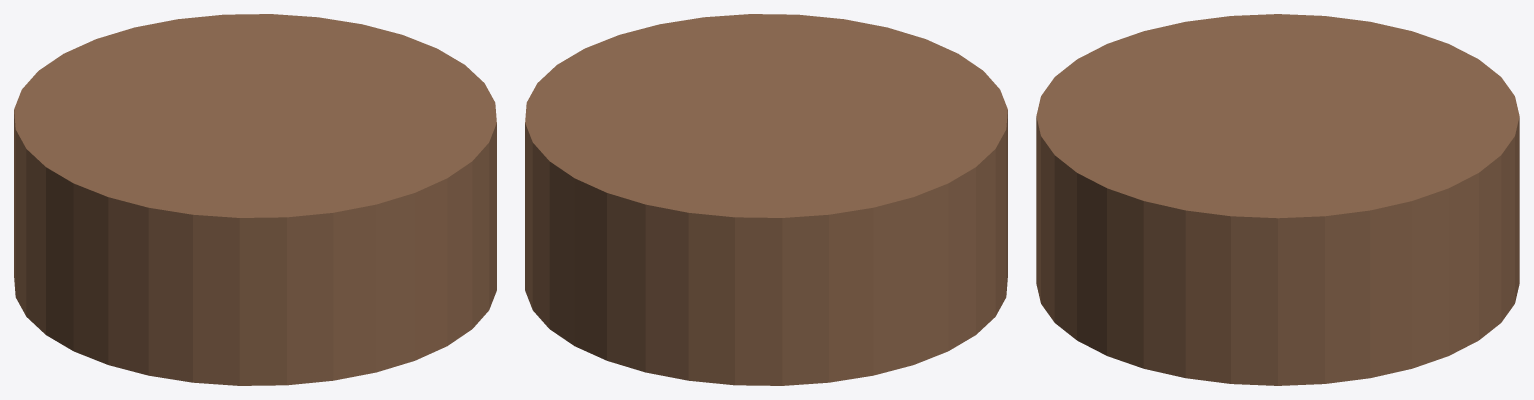
Rendered from keyhole.fbx.
The picture shows the model from 3 angles, left to right: view 1: azimuth 30°, elevation 25°; view 2: azimuth 150°, elevation 25°; view 3: azimuth 270°, elevation 25°; orthographic projection.
Parts seen in each view (by area): view 1: Cylinder; view 2: Cylinder; view 3: Cylinder.
Boxes of the visible parts, <box> form: Cylinder: <box>14,14,496,385</box>; Cylinder: <box>525,14,1007,385</box>; Cylinder: <box>1036,14,1519,385</box>.
Bounding box in the file's own units: 200 × 78.92 × 200.
